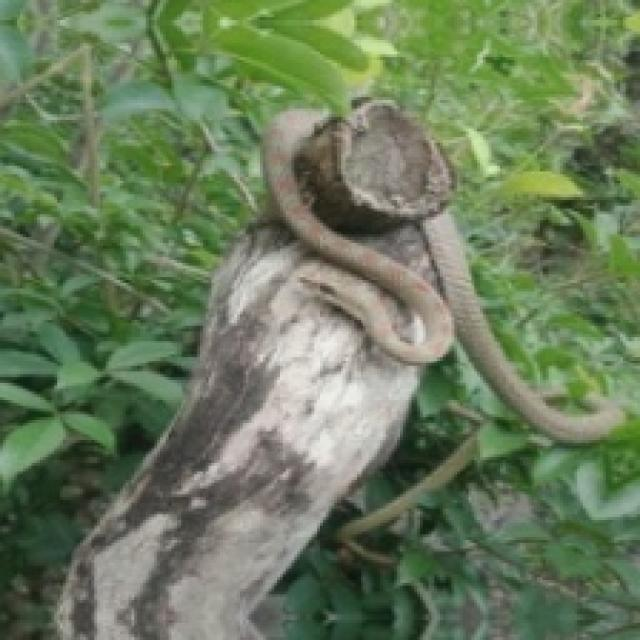paradise tree snake: (263, 100, 620, 443)
